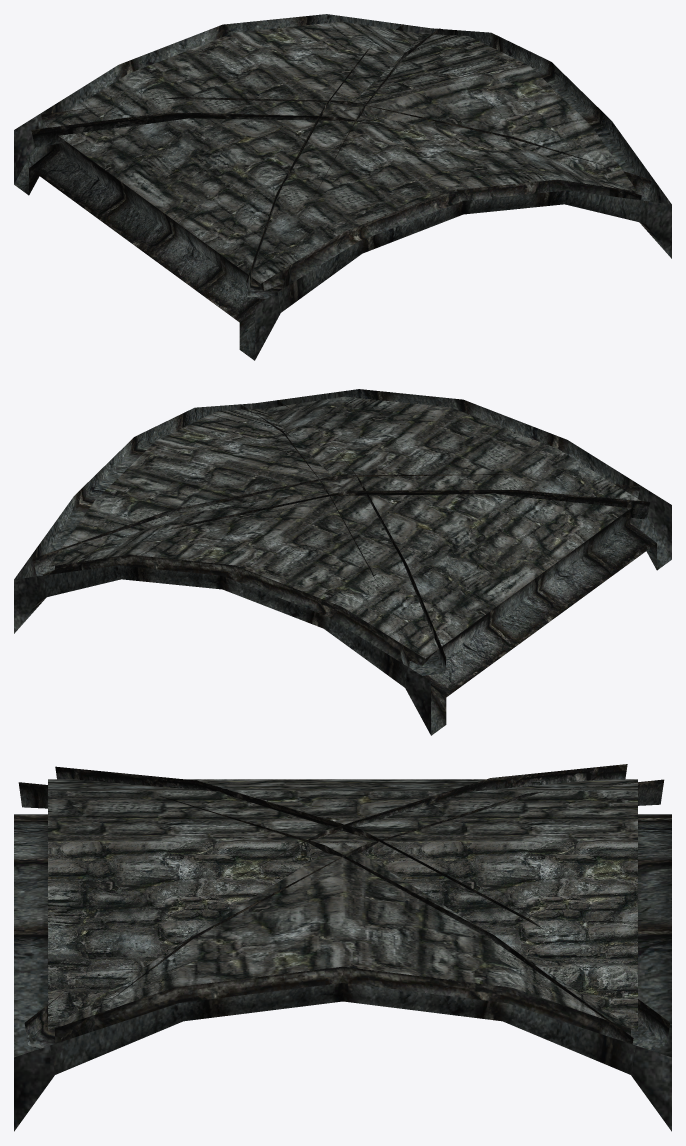
The model's file is corridor02_3way.dae.
3 renders of one model, top to bottom at view 1: azimuth 30°, elevation 25°; view 2: azimuth 150°, elevation 25°; view 3: azimuth 270°, elevation 25°, orthographic. The views are drawn at different scales.
Visible parts, largest first — view 1: polySurface165, polySurface168; view 2: polySurface165, polySurface168; view 3: polySurface165, polySurface168.
Boxes of the visible parts, box(x1,y1,x2,y2) form: polySurface165: box(45, 21, 637, 283); polySurface168: box(14, 14, 671, 360); polySurface165: box(48, 396, 640, 658); polySurface168: box(14, 389, 671, 735); polySurface165: box(48, 779, 637, 1030); polySurface168: box(14, 764, 671, 1131).
Size of the model in its own units: 4 by 1.04 by 4.
